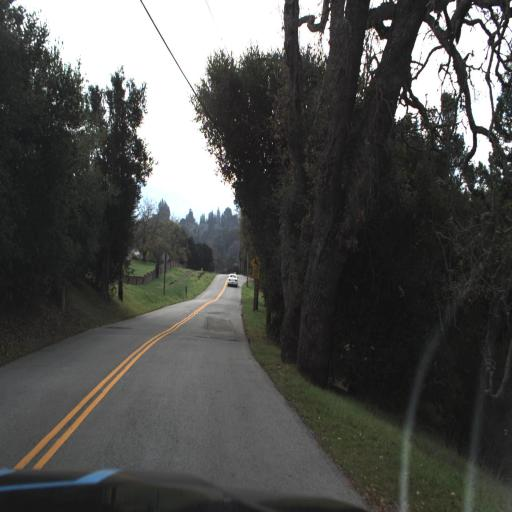car: (222, 269, 241, 290)
